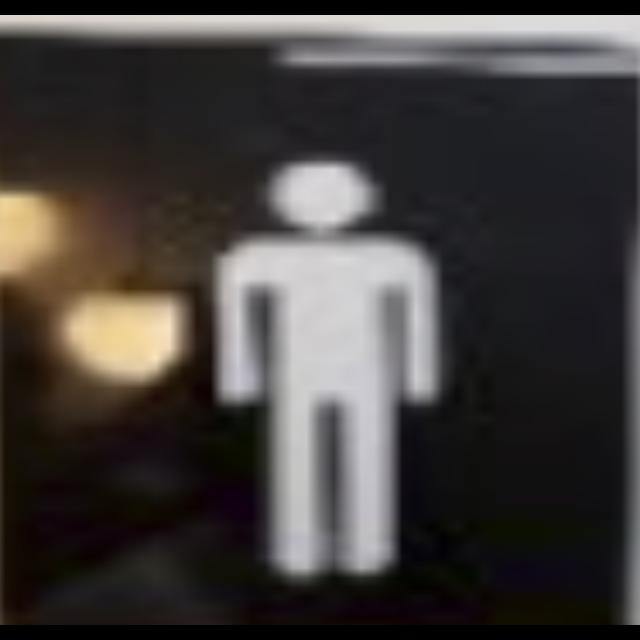wc nam: (0, 32, 639, 625)
